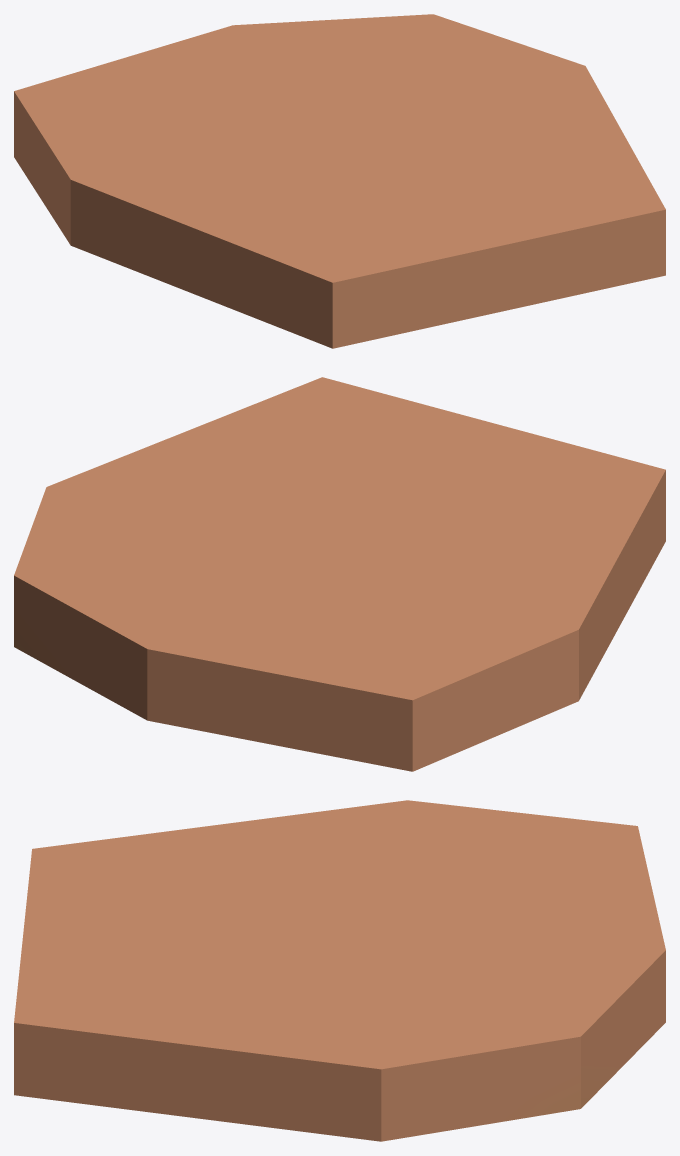
File: gachsan_004.fbx
3 views of the same model, one above another, from view 1: azimuth 30°, elevation 25°; view 2: azimuth 150°, elevation 25°; view 3: azimuth 270°, elevation 25° (orthographic). The views are drawn at different scales.
Parts seen in each view (by area): view 1: gachsan_004; view 2: gachsan_004; view 3: gachsan_004.
Boxes of the visible parts, <box> form: gachsan_004: <box>14,14,665,348</box>; gachsan_004: <box>14,377,665,771</box>; gachsan_004: <box>14,800,665,1141</box>.
Size of the model in its own units: 87.65 by 10.99 by 89.74.
